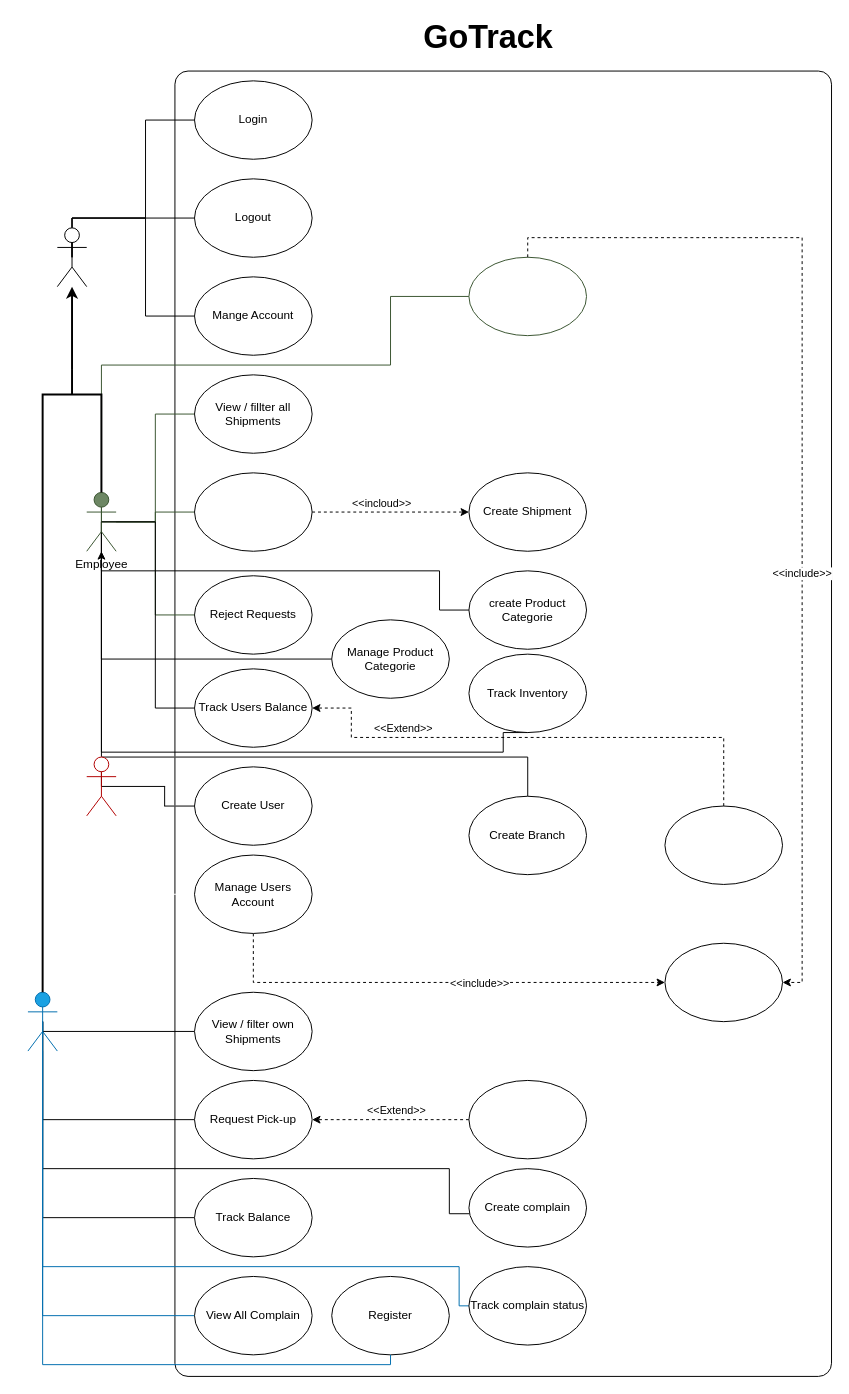
Image size: 849x1394. Some labels were removed from this diagram. The centre of each missing label's shape, as x and y in pixels:
<<interface>> User: [71,257]
Accept Requests: [253,511]
Admin: [101,786]
Assign branch: [723,982]
Cancel Request: [527,1119]
Customer: [42,1021]
Manage Balance: [723,844]
Manage shipment: [527,296]
